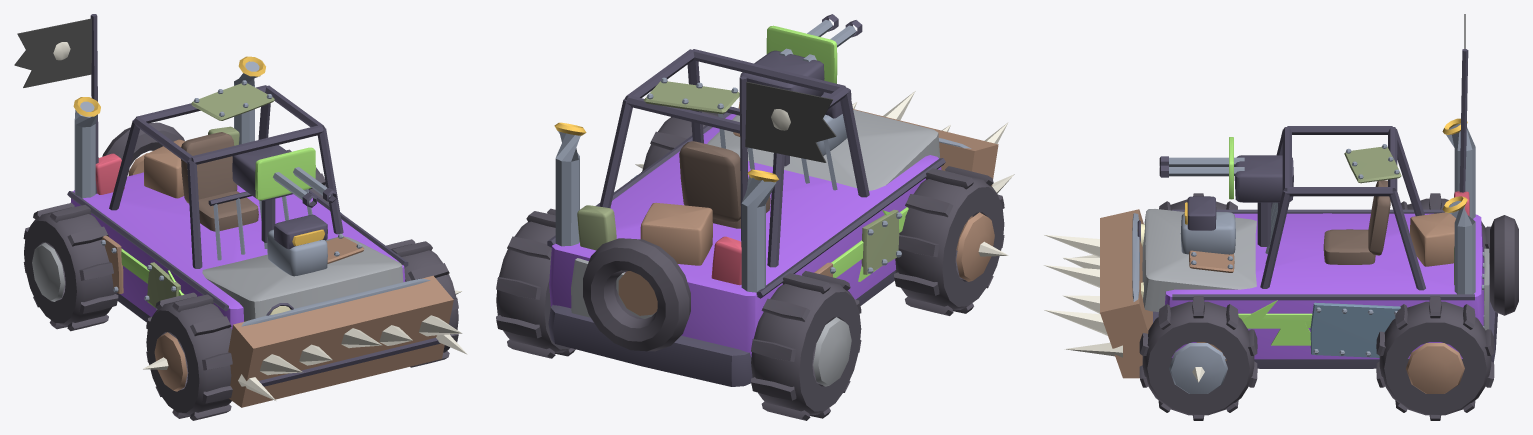
File: warrig.glb
3 renders of one model, left to right at view 1: azimuth 30°, elevation 25°; view 2: azimuth 150°, elevation 25°; view 3: azimuth 270°, elevation 25°, orthographic. The views are drawn at different scales.
Visible parts, largest first — view 1: plow, tub.001, hood, tyre2, tyre0, flag, seatBack.001, gunShield, stack-1, blower, roofScrap, crate (+38 smaller); view 2: tub.001, spare, tyre2, tyre0, frame, hood, flag, tyre3, seatBack.001, crate, stack-1, stack1 (+35 smaller); view 3: tub.001, tyre1, tyre3, hood, plow, patchR1, spare, hub3, gunBody, hub1, crate, seam1 (+28 smaller).
Boxes of the visible parts, box(x1,y1,x2,y2) form: plow: box(228, 275, 453, 407); tub.001: box(70, 172, 405, 329); hood: box(202, 236, 403, 321); tyre2: box(24, 207, 116, 326); tyre0: box(146, 297, 231, 415); flag: box(14, 18, 91, 87); seatBack.001: box(181, 132, 237, 203); gunShield: box(255, 147, 315, 200); stack-1: box(74, 101, 97, 198); blower: box(267, 229, 327, 276); roofScrap: box(191, 83, 274, 120); crate: box(144, 139, 184, 198); tub.001: box(549, 114, 941, 357); spare: box(583, 238, 690, 351); tyre2: box(751, 276, 861, 415); tyre0: box(895, 171, 1004, 310); frame: box(548, 270, 895, 386); hood: box(707, 109, 939, 190); flag: box(745, 82, 836, 162); tyre3: box(496, 214, 570, 352); seatBack.001: box(679, 141, 740, 222); crate: box(640, 202, 712, 265); stack-1: box(741, 176, 776, 292); stack1: box(555, 129, 580, 246); tub.001: box(1165, 213, 1484, 359); tyre1: box(1142, 301, 1254, 415); tyre3: box(1379, 301, 1491, 415); hood: box(1142, 209, 1256, 311); plow: box(1100, 209, 1152, 378); patchR1: box(1310, 302, 1400, 357); spare: box(1490, 215, 1518, 315); hub3: box(1406, 343, 1464, 393); gunBody: box(1234, 155, 1293, 202); hub1: box(1169, 343, 1227, 393); crate: box(1410, 212, 1455, 266); seam1: box(1172, 294, 1474, 300).
Bounding box in the file's own units: 5.44 × 4.67 × 7.23.
